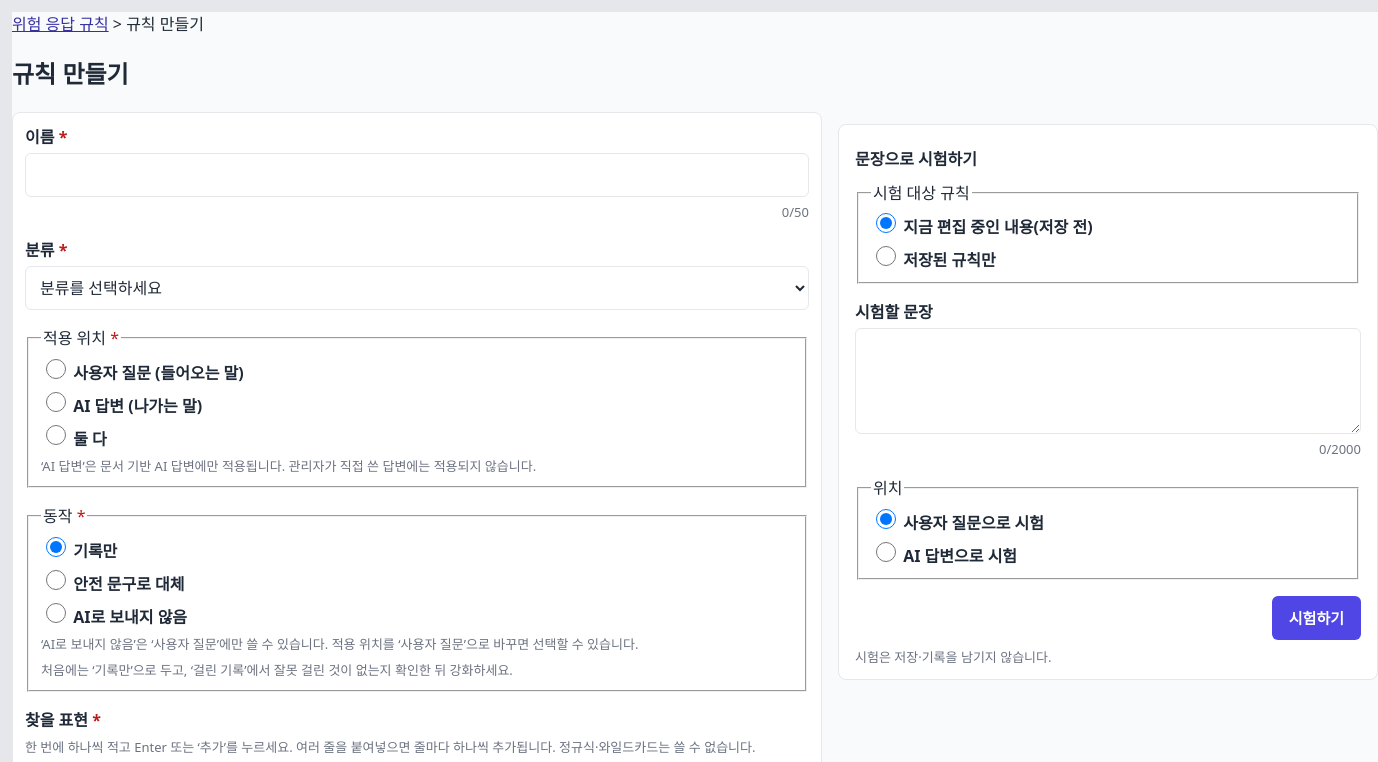
it: GR-2 규칙 만들기 › 필수 항목마다 레이블이 있고 이름은 남은 글자 수를 실시간 보인다
expect the text "0/50" is shown: met, box [782,203,809,221]
Type "가나다" into the field labelled "이름 *" at (417, 175), box [25,153,809,197]
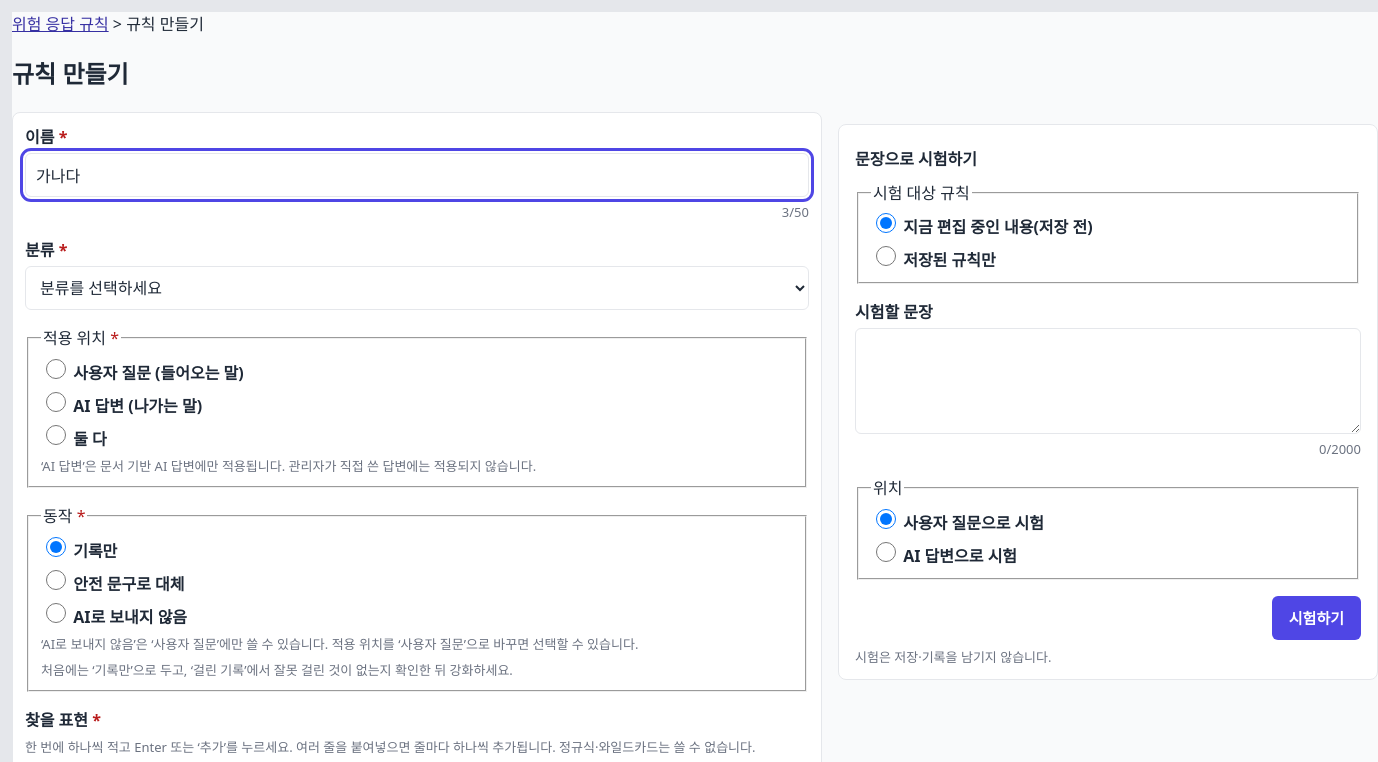
expect the text "3/50" is shown: met, box [782,203,809,221]
